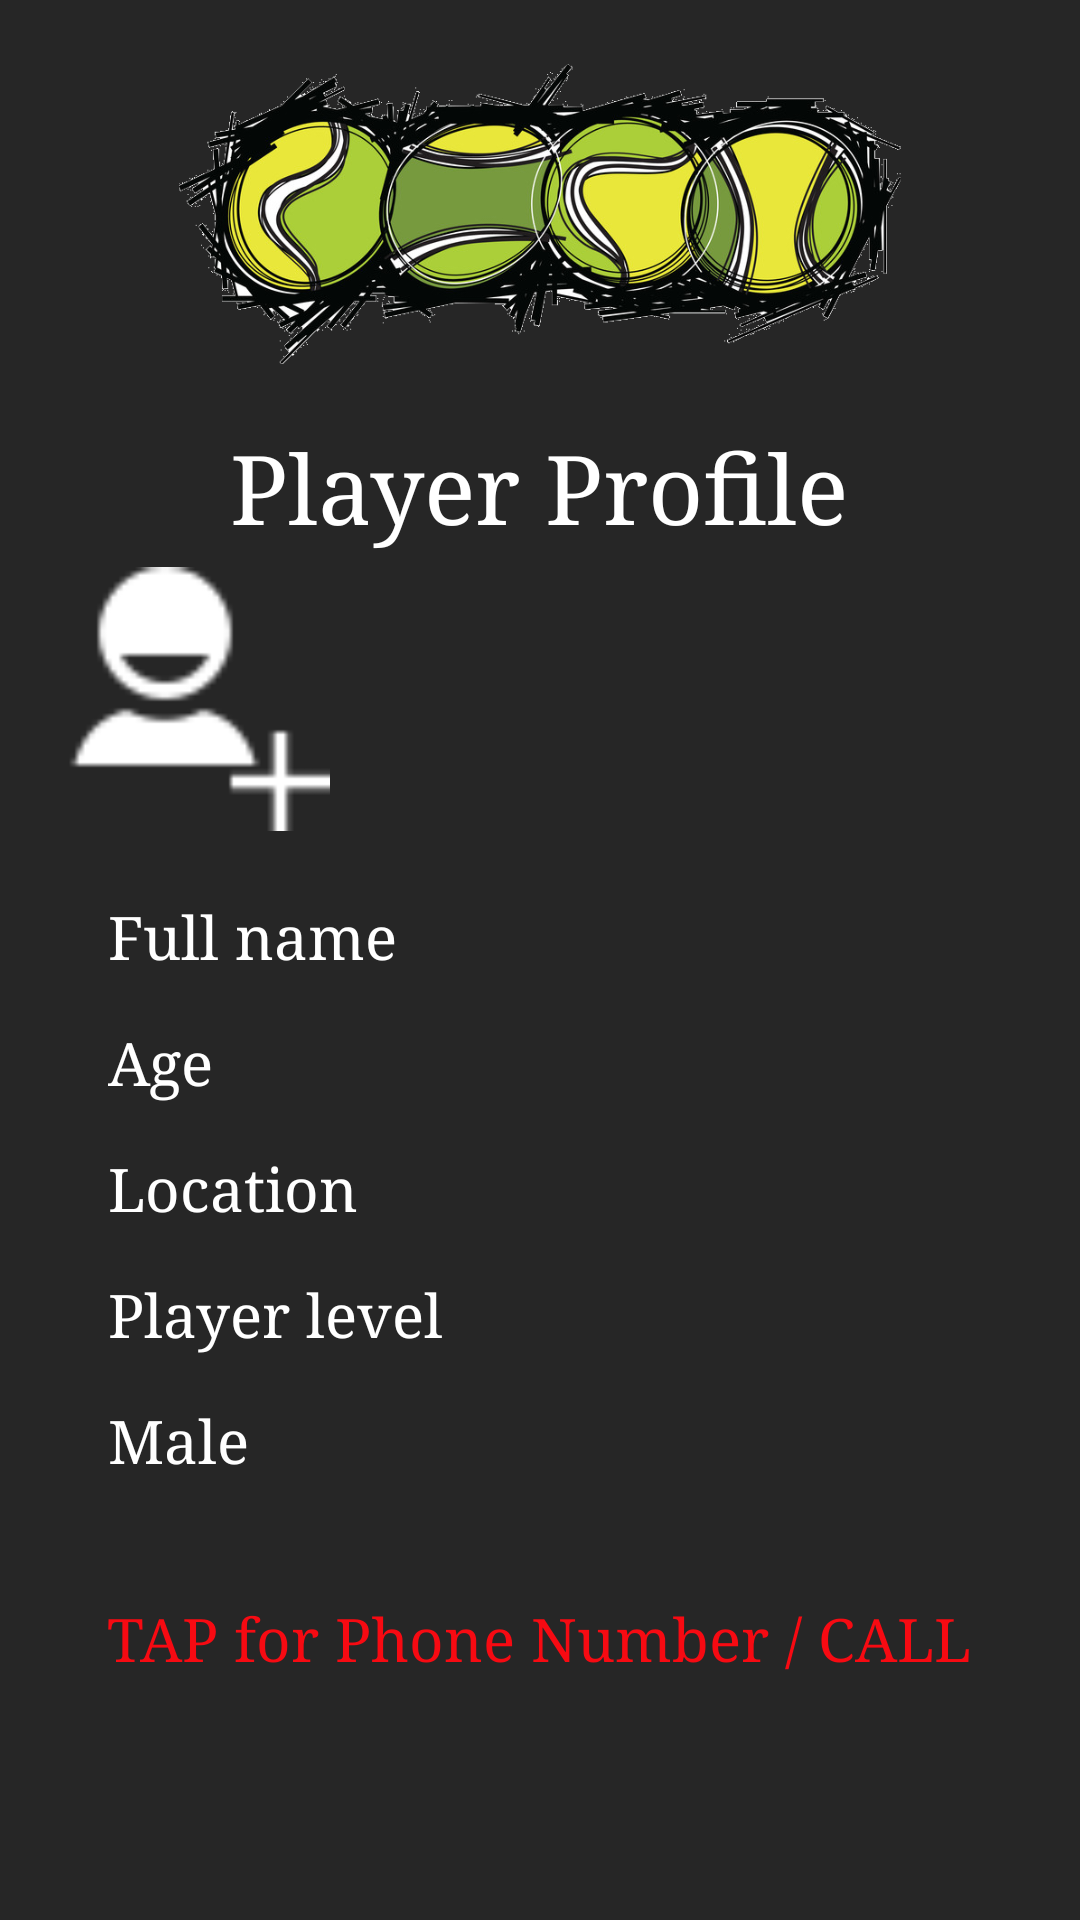

Where to tap for icons on this 1080 × 1920 app screen, as (x,y):
add contact: (200,699)
